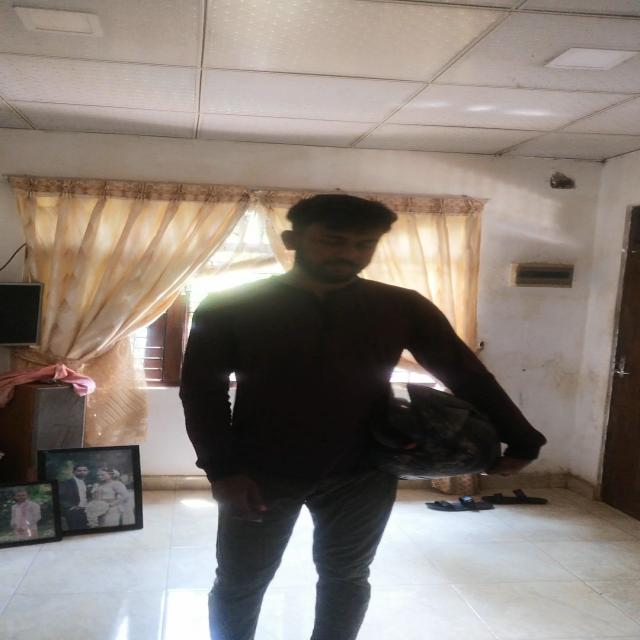Person: (164, 191, 526, 640)
